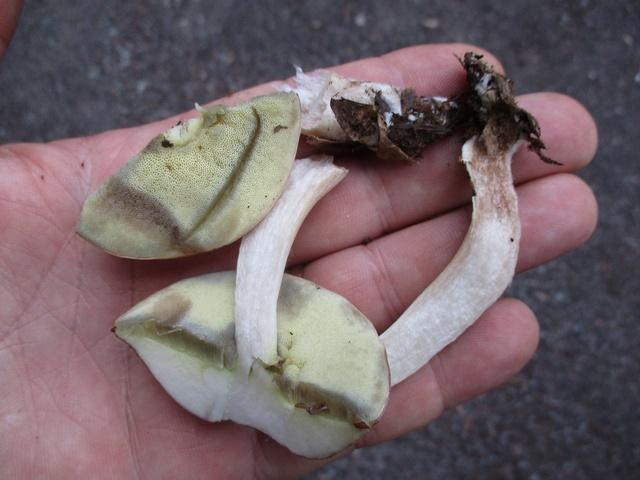edible_mushroom: (73, 50, 555, 458)
